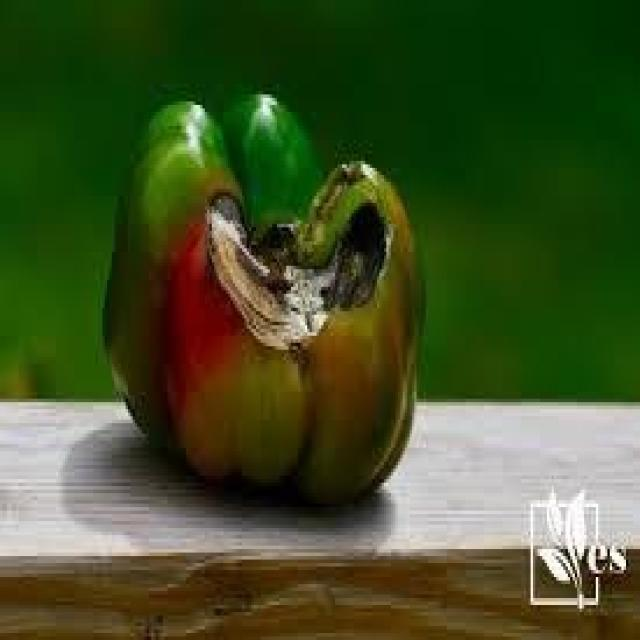Wet Waste: (98, 83, 428, 510)
